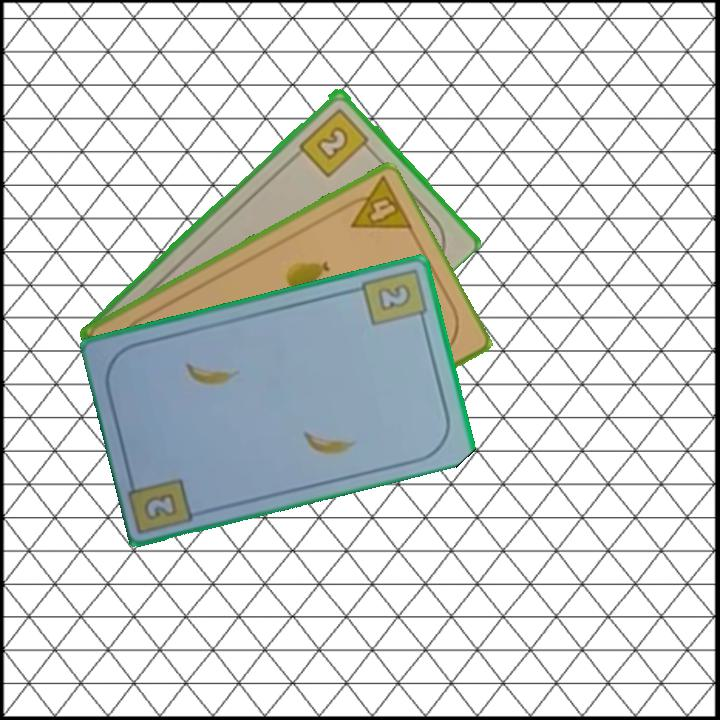2b: (295, 104, 376, 180), (358, 265, 430, 329), (140, 489, 181, 523)
4p: (335, 173, 415, 233)
